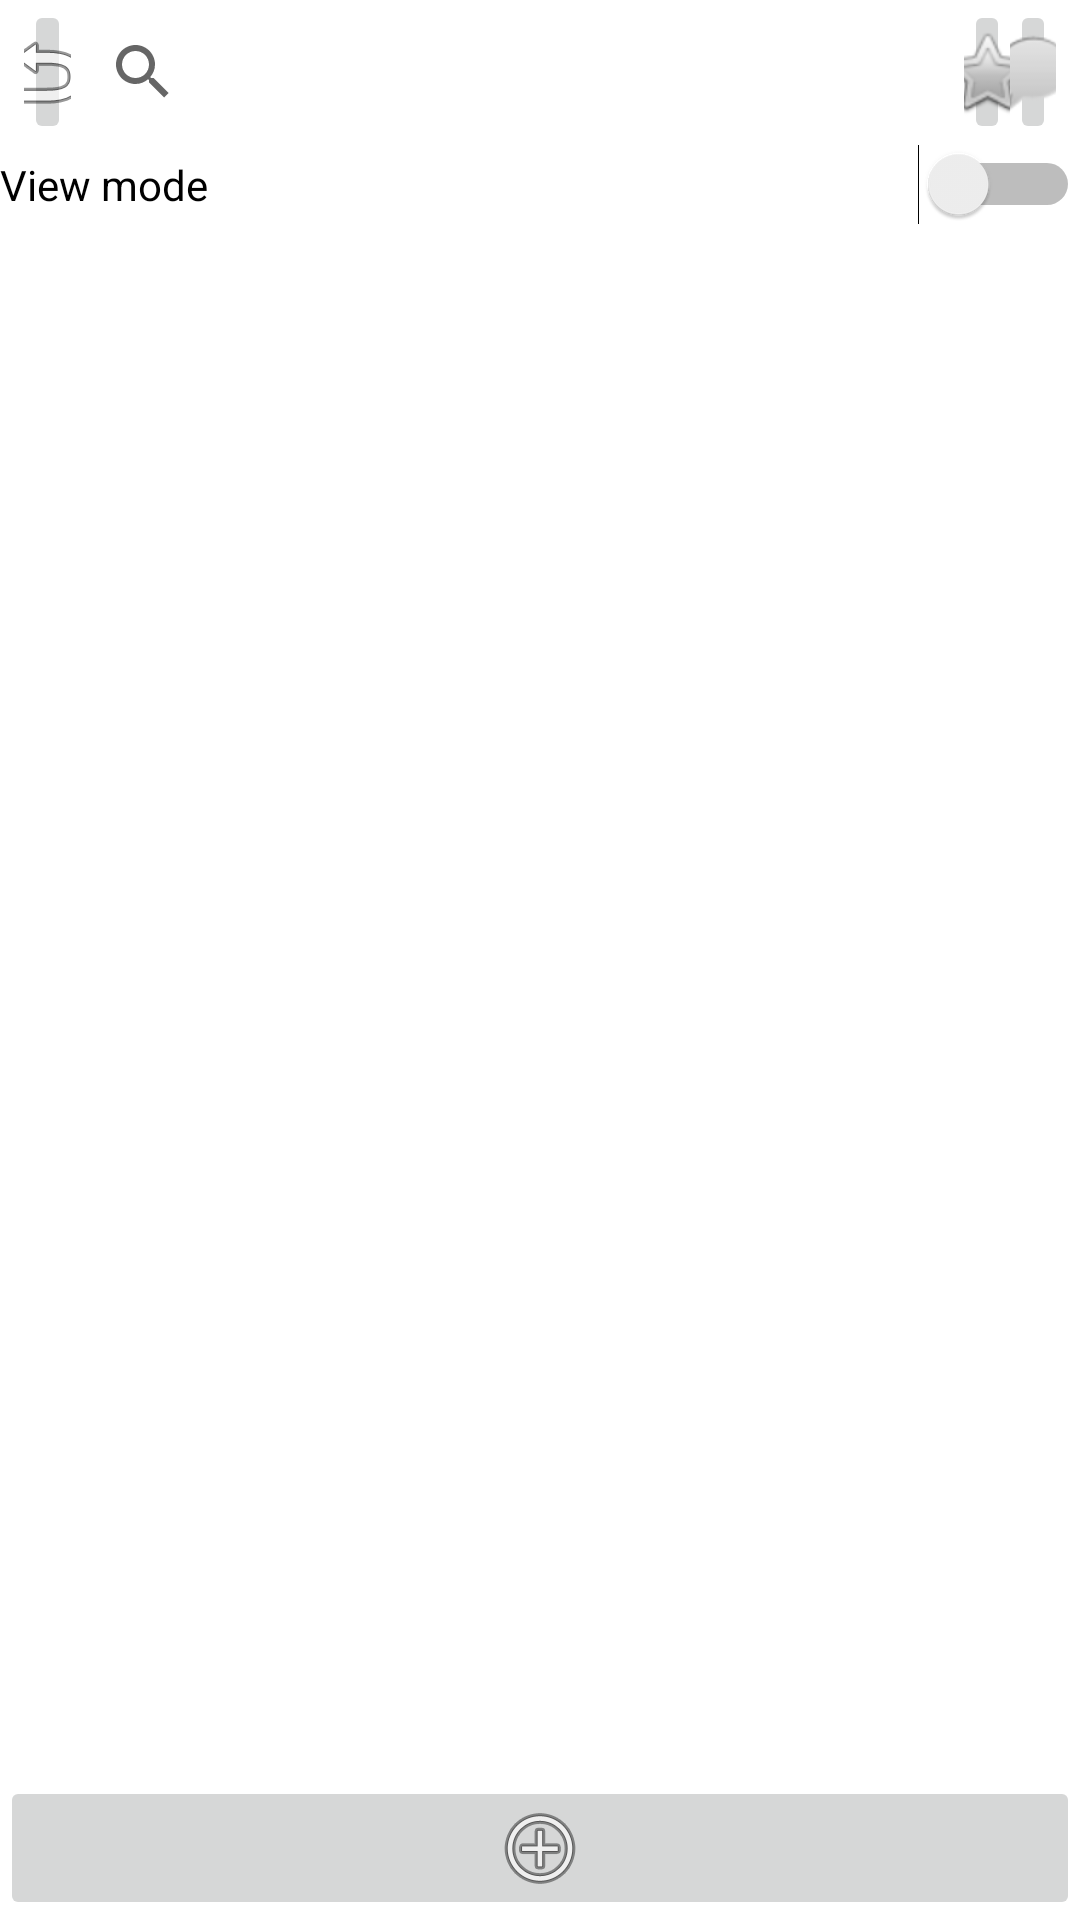

Named icons in this screenshot (1080*1920) and their centers, point (x, y):
revert: point (47, 72)
star: point (987, 72)
